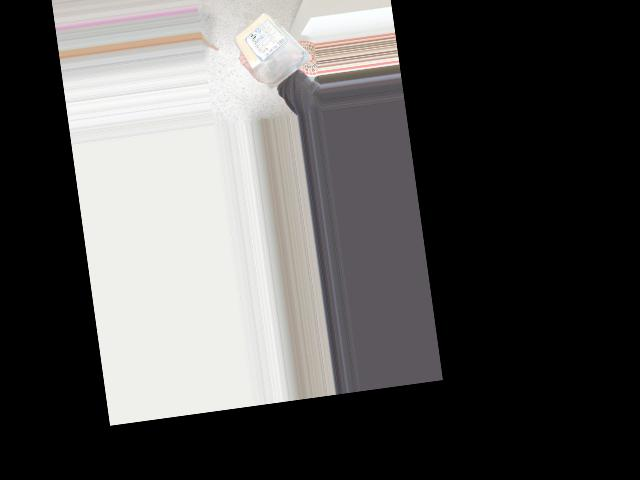cheese: (240, 5, 307, 82)
